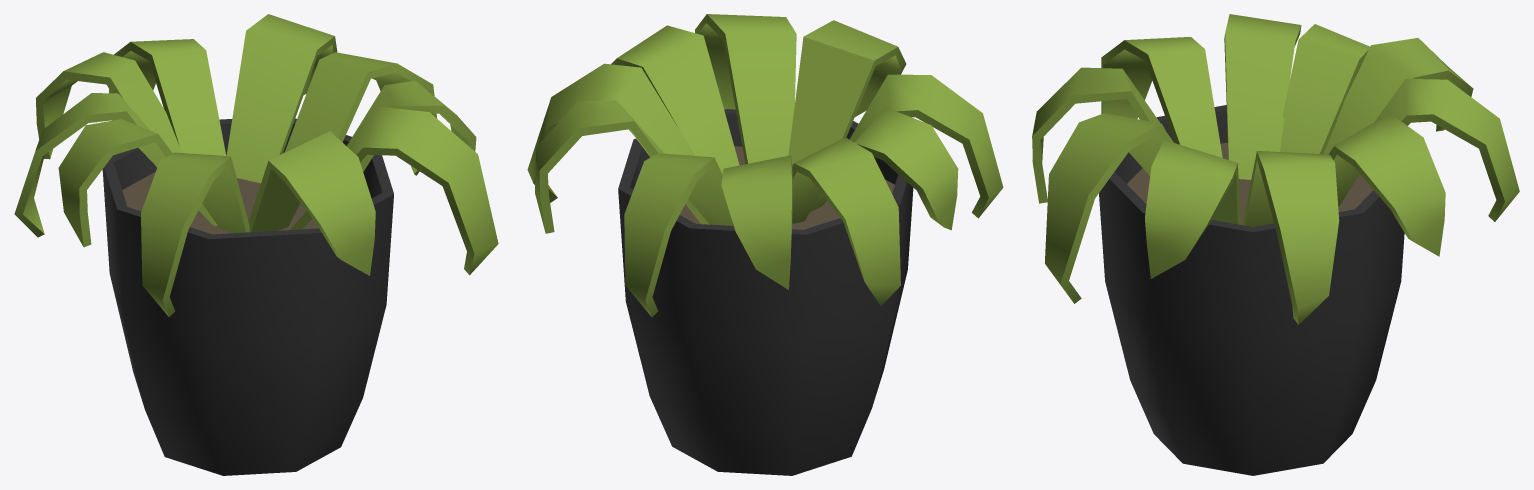
The model's file is quaternius_cc0-houseplant-1090.glb.
3 renders of one model, left to right at view 1: azimuth 30°, elevation 25°; view 2: azimuth 150°, elevation 25°; view 3: azimuth 270°, elevation 25°, orthographic. The views are drawn at different scales.
Parts seen in each view (by area): view 1: Houseplant_5; view 2: Houseplant_5; view 3: Houseplant_5.
Boxes of the visible parts, bbox=[...] form: Houseplant_5: bbox=[14, 14, 498, 475]; Houseplant_5: bbox=[527, 14, 1003, 475]; Houseplant_5: bbox=[1032, 14, 1519, 475].
Bounding box in the file's own units: 0.5118 × 0.4236 × 0.5284.
